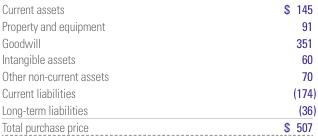table: (0, 0, 315, 133)
table column: (0, 0, 195, 133), (195, 0, 315, 133)
table row: (0, 16, 315, 33), (0, 33, 315, 50), (0, 50, 315, 67), (0, 67, 315, 84), (0, 100, 315, 117), (0, 0, 315, 16), (0, 84, 315, 100), (0, 117, 315, 133)
